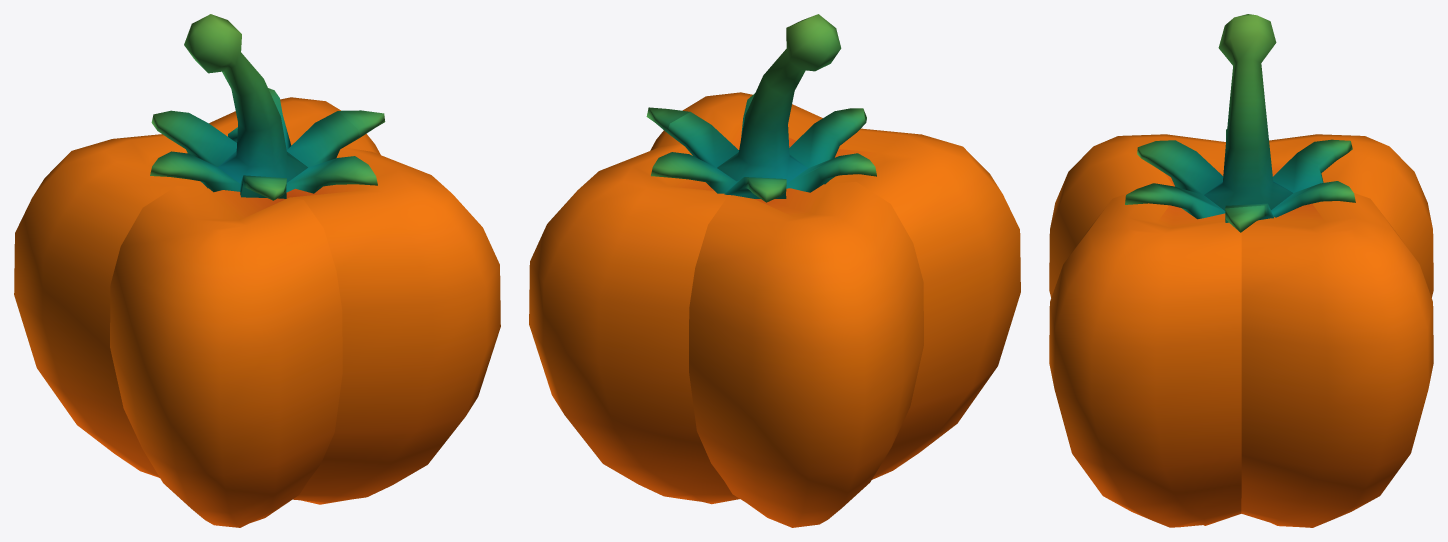
3 views of the same model, side by side, from view 1: azimuth 30°, elevation 25°; view 2: azimuth 150°, elevation 25°; view 3: azimuth 270°, elevation 25° (orthographic). The views are drawn at different scales.
Visible parts, largest first — view 1: 7-9; view 2: 7-9; view 3: 7-9.
Part boxes in pixels (left/top/right/bottom): 7-9: left=14, top=14, right=500, bottom=527; 7-9: left=529, top=14, right=1020, bottom=527; 7-9: left=1049, top=14, right=1433, bottom=527.
Size of the model in its own units: 9.1 by 12.2 by 9.1.
